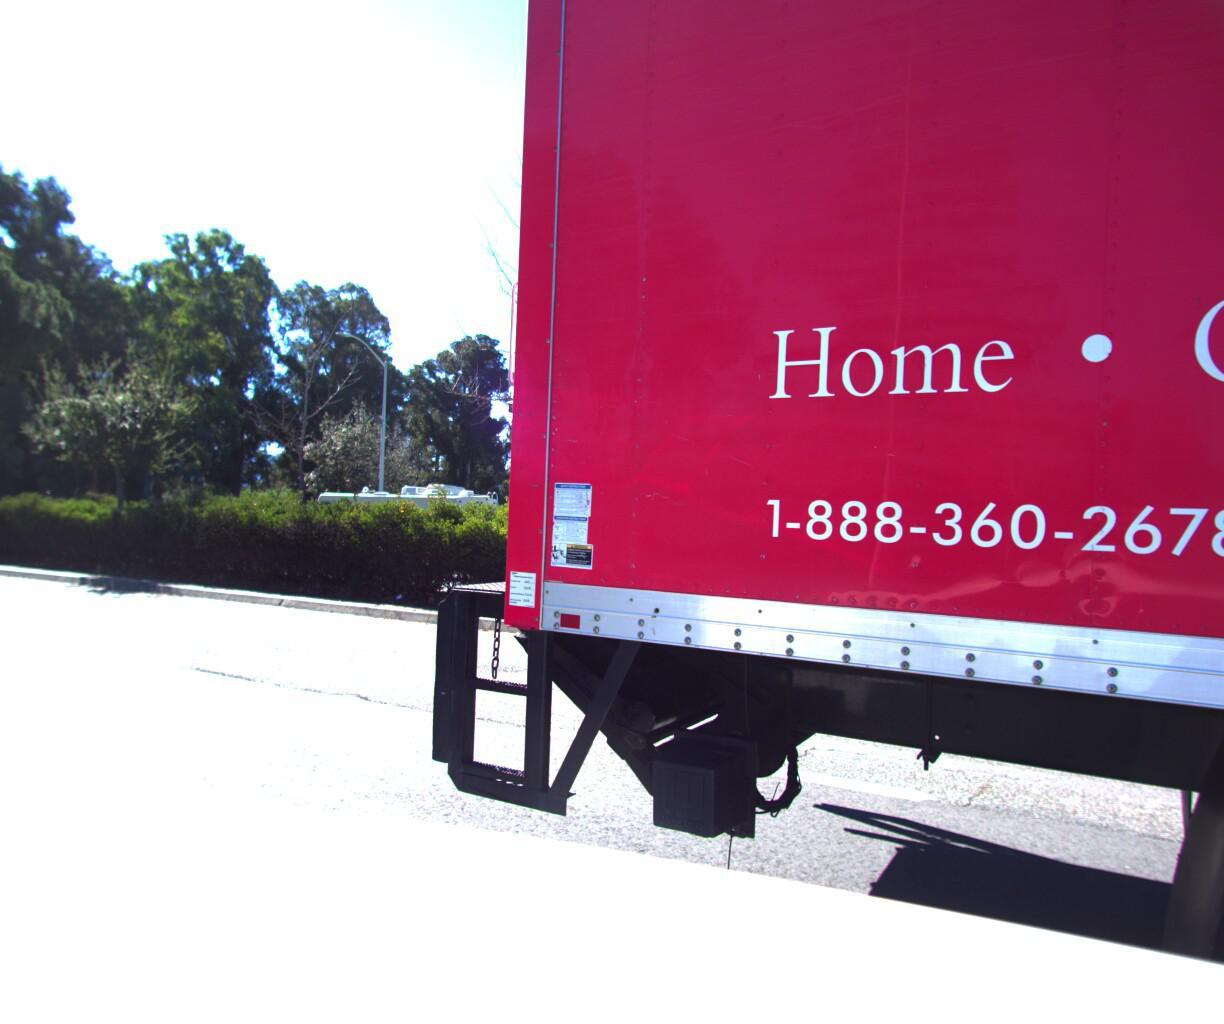other_vehicle: (294, 472, 517, 568)
